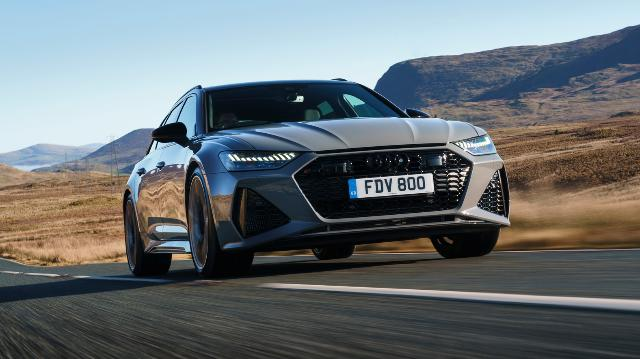audi: (122, 78, 510, 280)
